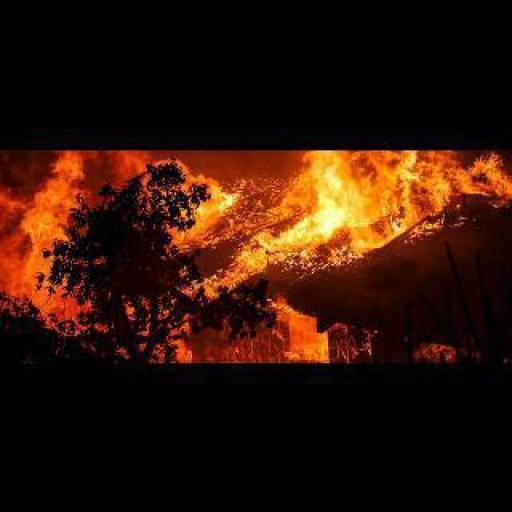smoke: (8, 154, 510, 363)
